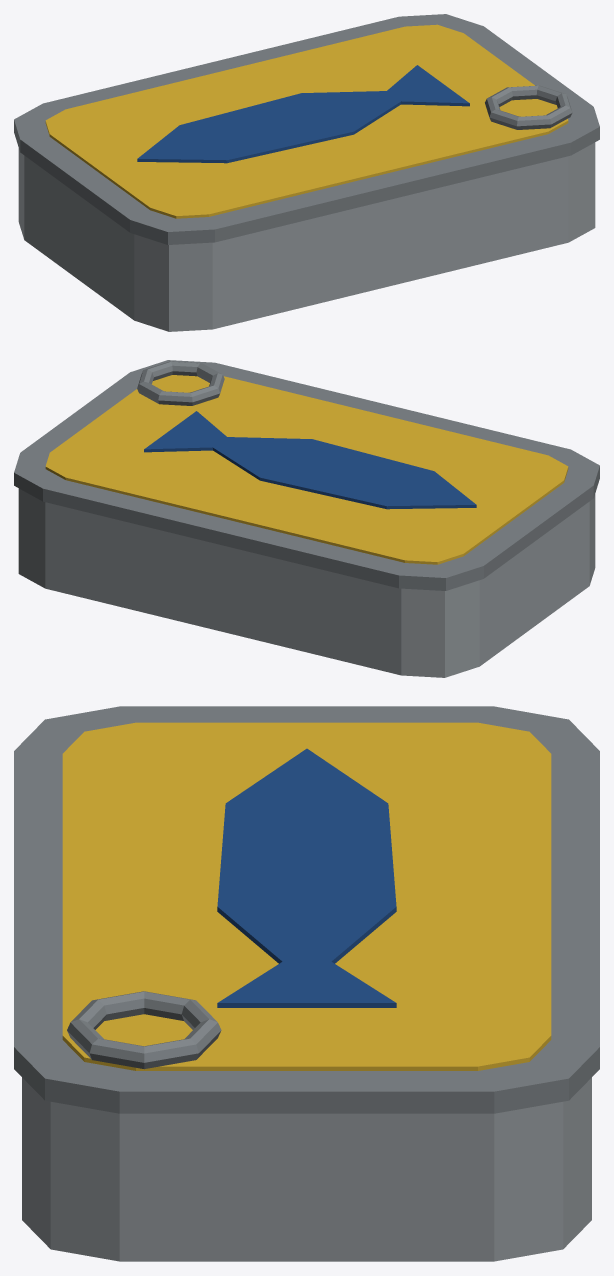
Rendered from sardines.glb.
The picture shows the model from 3 angles, top to bottom: view 1: azimuth 30°, elevation 25°; view 2: azimuth 150°, elevation 25°; view 3: azimuth 270°, elevation 25°; orthographic projection. The views are drawn at different scales.
Visible parts, largest first — view 1: tin, print, rim, fish, key; view 2: tin, print, rim, fish, key; view 3: print, tin, rim, fish, key.
Part boxes in pixels (left/top/right/bottom): tin: left=18, top=142, right=595, bottom=331; print: left=45, top=24, right=568, bottom=218; rim: left=14, top=14, right=599, bottom=244; fish: left=137, top=65, right=469, bottom=163; key: left=485, top=85, right=572, bottom=129; tin: left=18, top=488, right=595, bottom=677; print: left=45, top=375, right=568, bottom=564; rim: left=14, top=360, right=599, bottom=590; fish: left=144, top=411, right=476, bottom=509; key: left=137, top=361, right=224, bottom=405; print: left=62, top=722, right=551, bottom=1070; tin: left=22, top=1077, right=591, bottom=1261; rim: left=14, top=706, right=599, bottom=1113; fish: left=217, top=748, right=396, bottom=1007; key: left=67, top=991, right=221, bottom=1069.
Bounding box in the file's own units: 0.112 × 0.0268 × 0.072.
4 materials, 4 textured.
